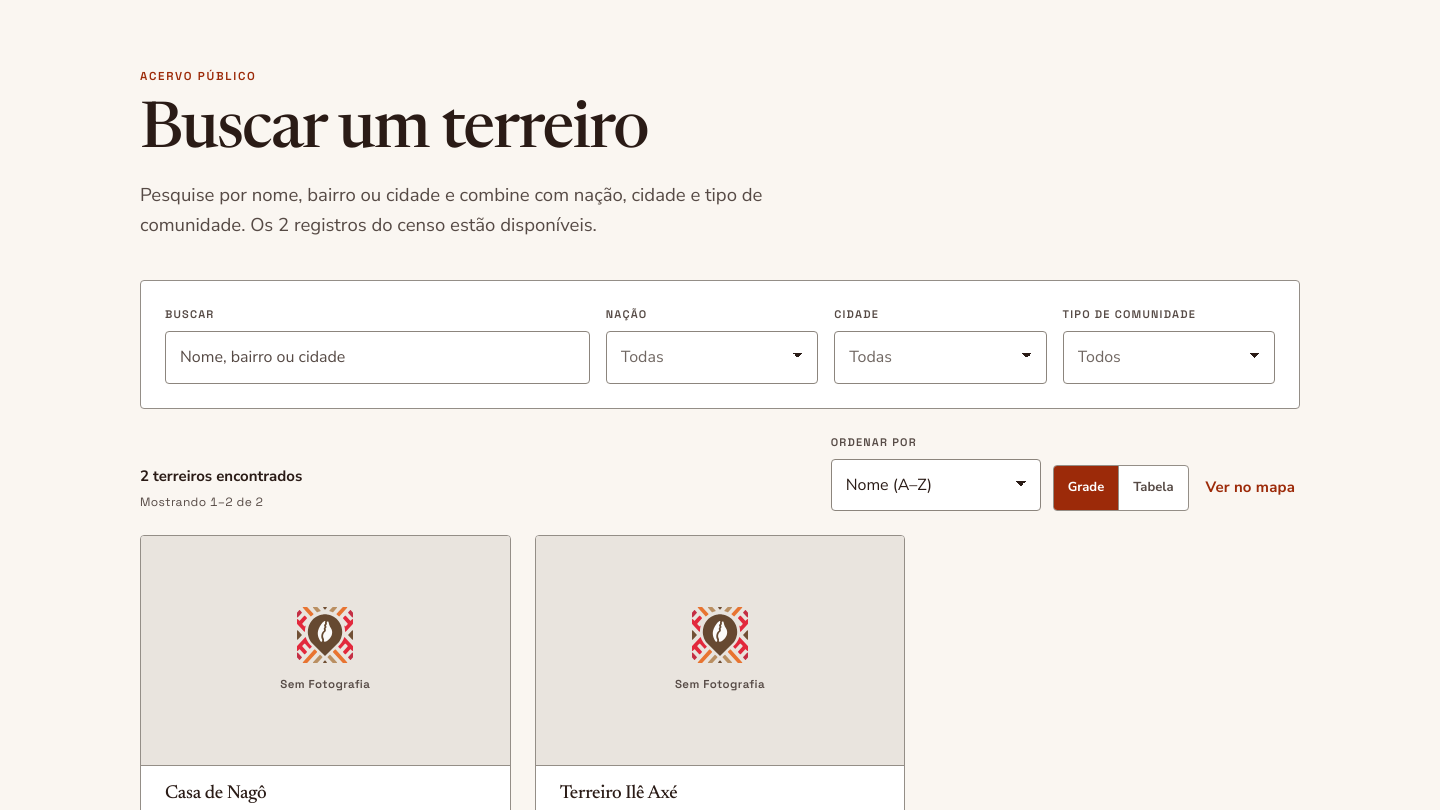
Fluxo de busca › alterna entre grade e tabela
The width and height of the screenshot is (1440, 810).
Expected: the text "2 terreiros encontrados" is shown, [140,464,302,489]
Click the button "Tabela". click: (1153, 488)
box: [1118,466,1188,510]
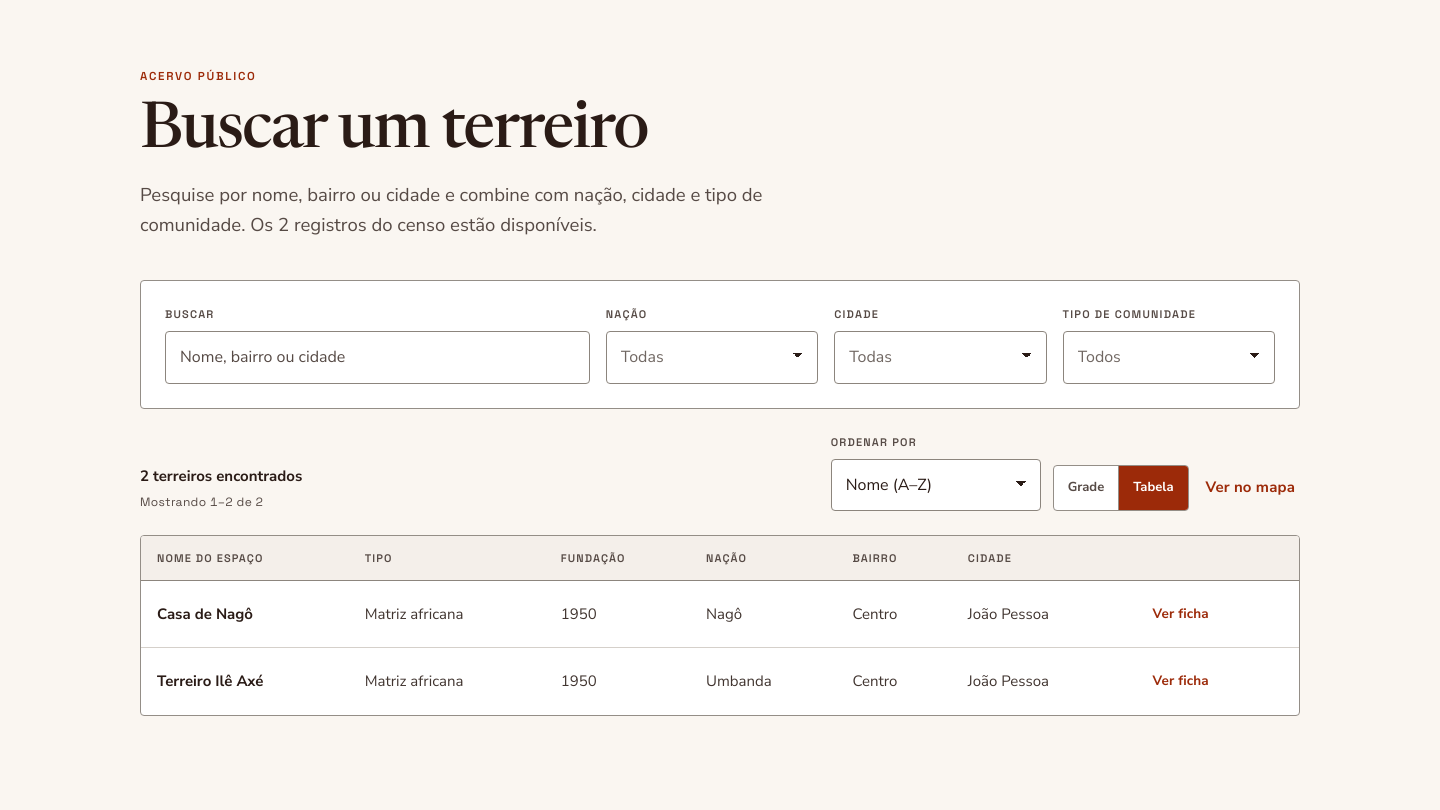
Expected: the cell "Casa de Nagô" is shown, [141,581,349,648]
Expected: the table is shown, [141,536,1299,715]
Click the button "Grade". click: (1086, 488)
box: [1054,466,1118,510]
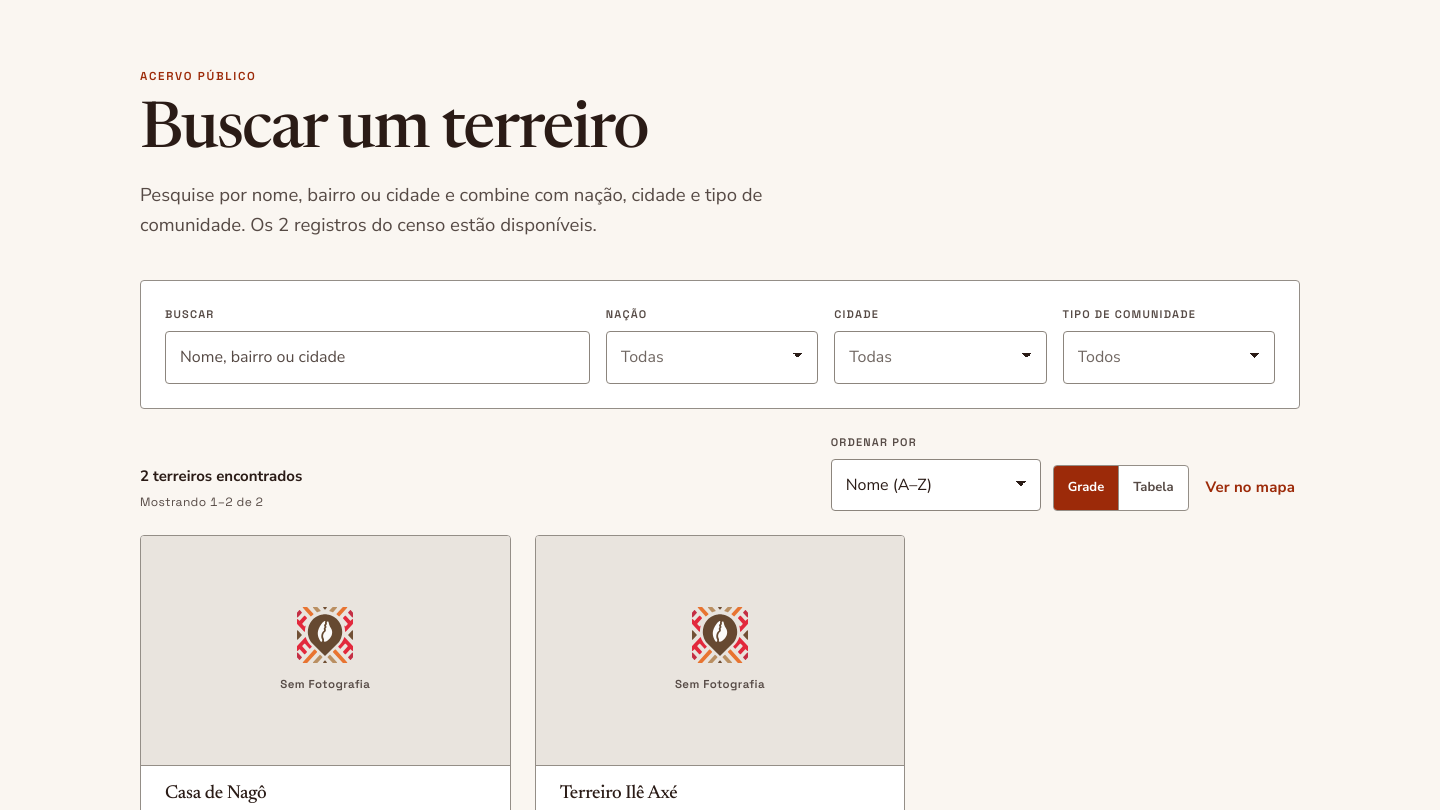
Expected: the table is gone
